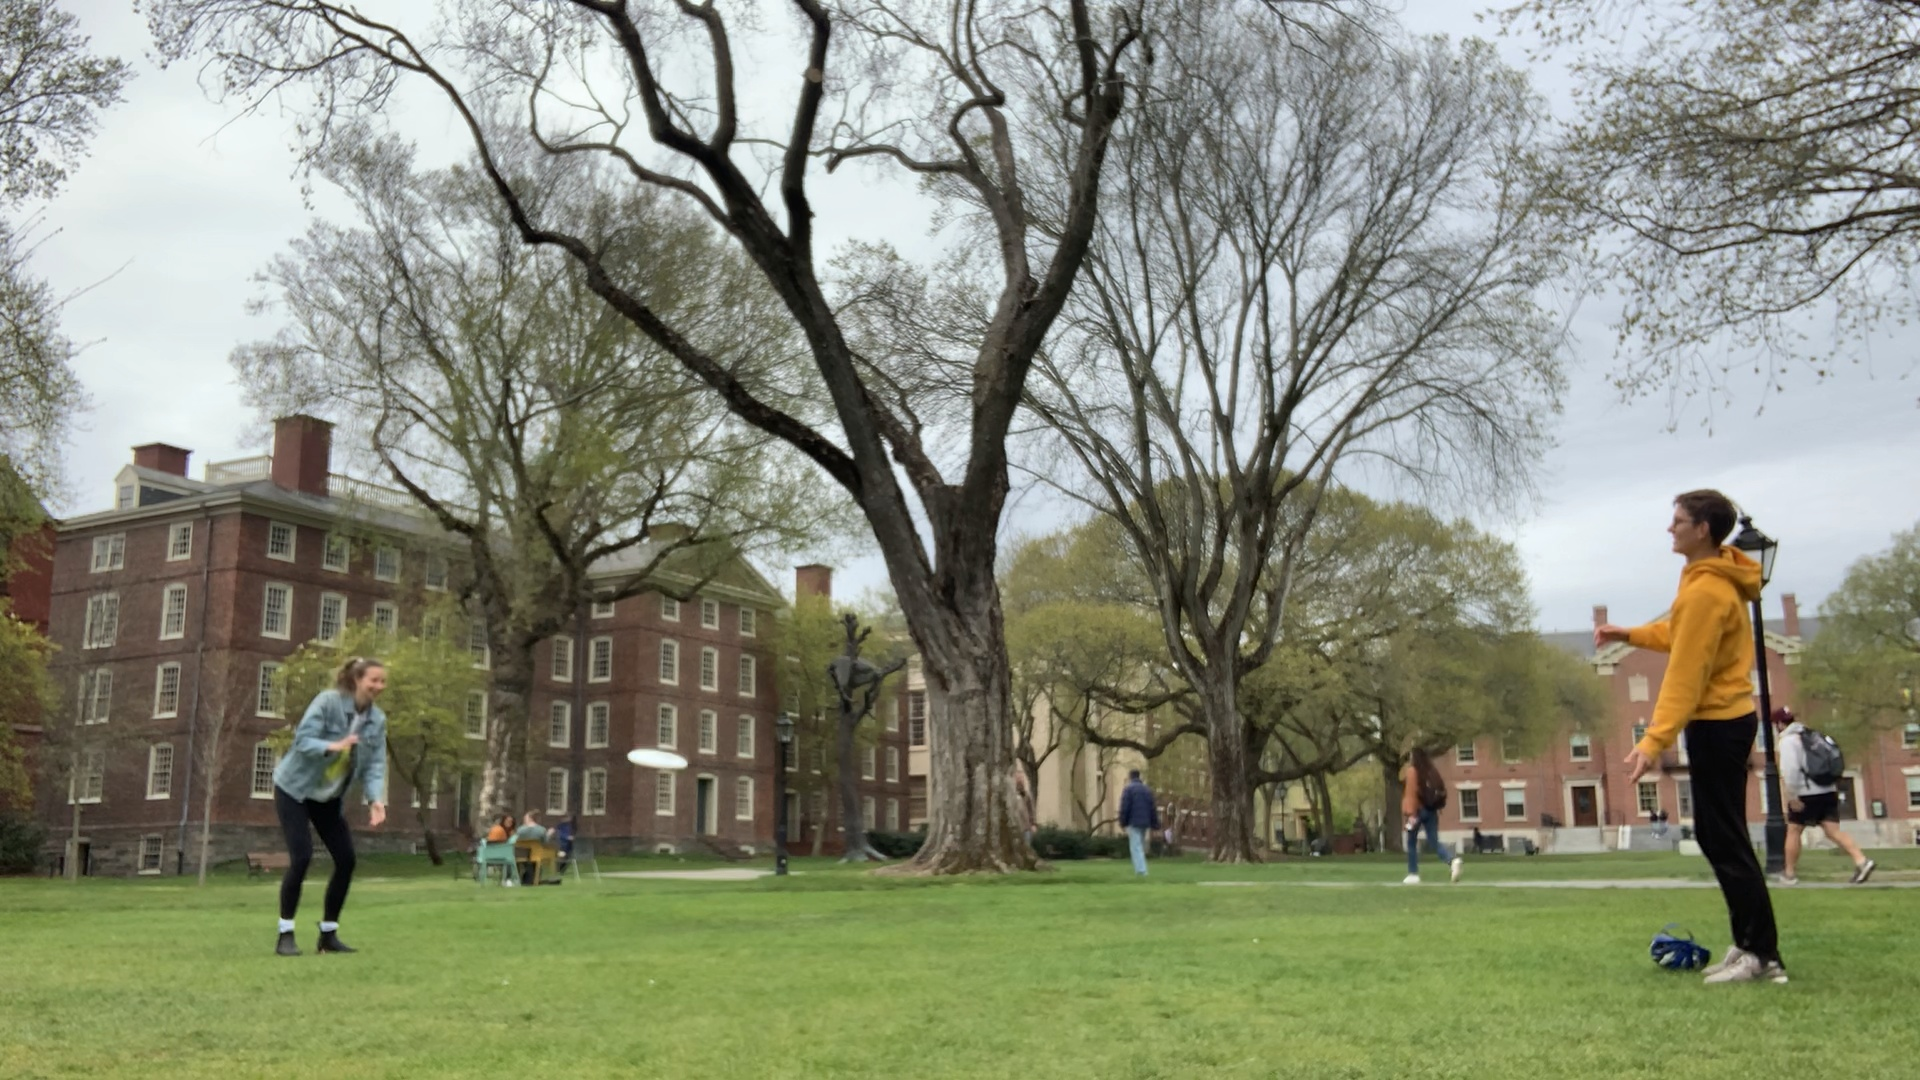Frisbee: (620, 742, 690, 775)
